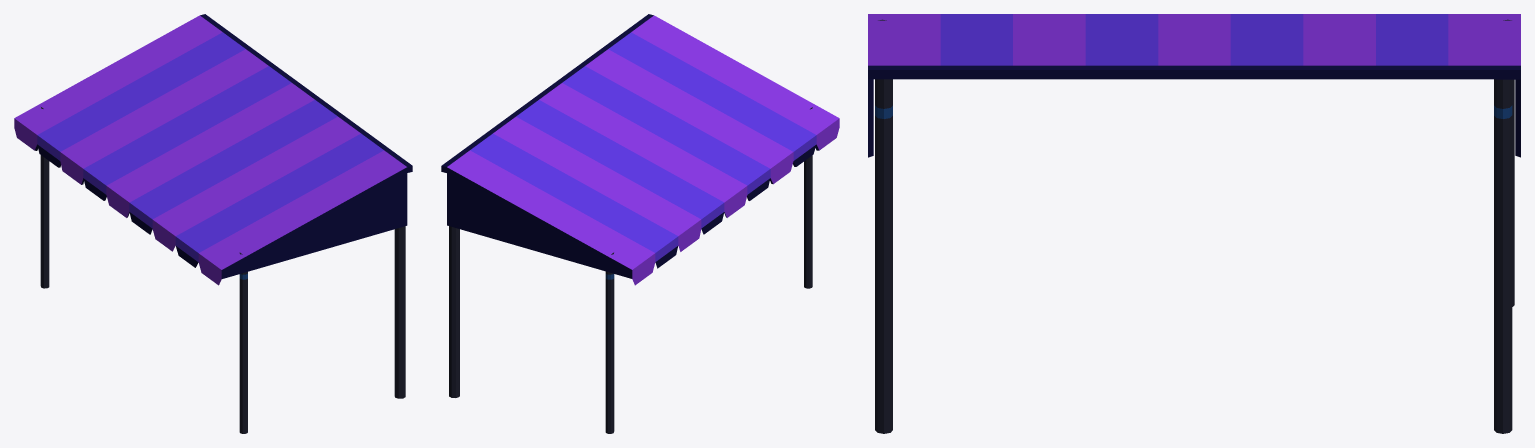
The model's file is Town_Awning02.fbx.
3 renders of one model, left to right at view 1: azimuth 30°, elevation 25°; view 2: azimuth 150°, elevation 25°; view 3: azimuth 270°, elevation 25°, orthographic. The views are drawn at different scales.
Parts seen in each view (by area): view 1: Cube.562; view 2: Cube.562; view 3: Cube.562.
Boxes of the visible parts, left/top/right/bottom form: Cube.562: left=14, top=14, right=412, bottom=433; Cube.562: left=441, top=14, right=839, bottom=433; Cube.562: left=868, top=14, right=1520, bottom=433.
Bounding box in the file's own units: 189 × 220 × 355.
